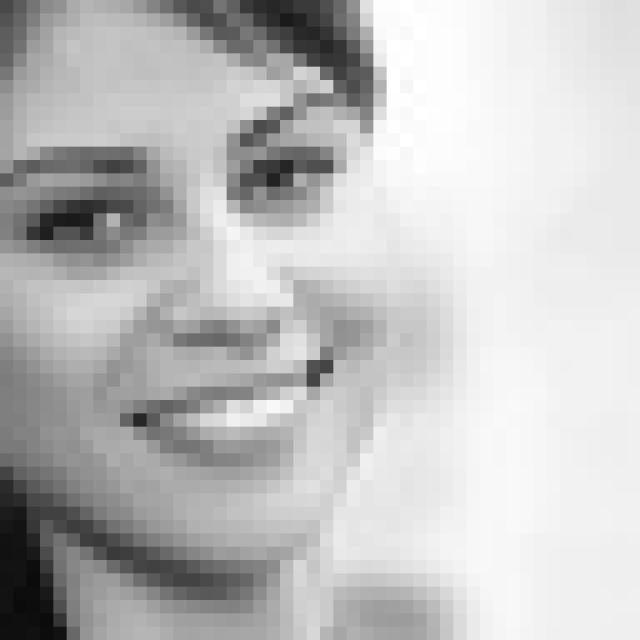happy: (0, 88, 357, 483)
